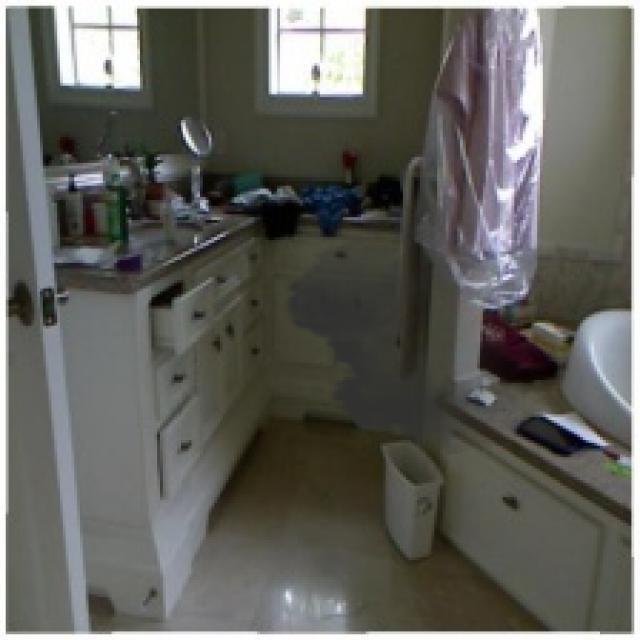Smoke: (274, 188, 554, 454)
